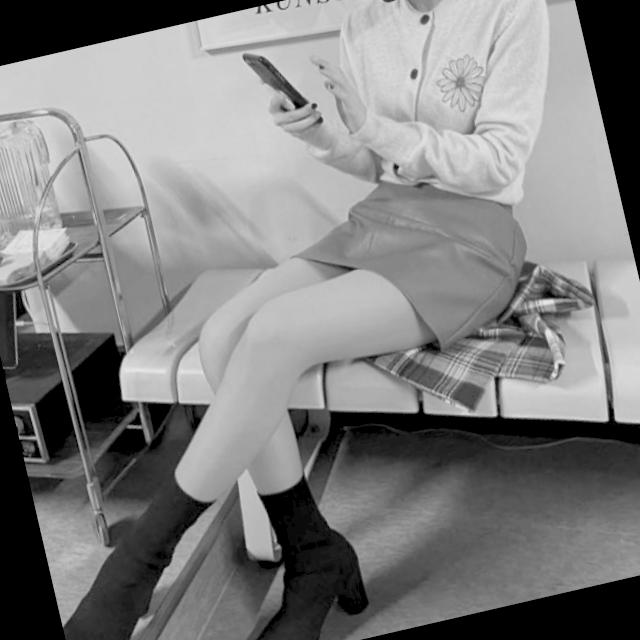cardigan: (256, 0, 592, 252)
skirt: (276, 140, 546, 382)
